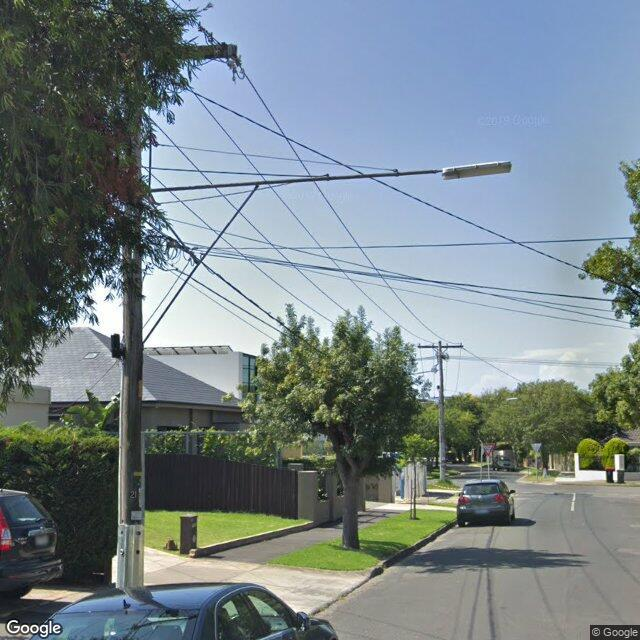crossarm: (172, 43, 237, 61), (418, 344, 462, 348)
streetlight: (139, 161, 512, 195)
timber-pole: (116, 105, 144, 590), (438, 341, 444, 484)
